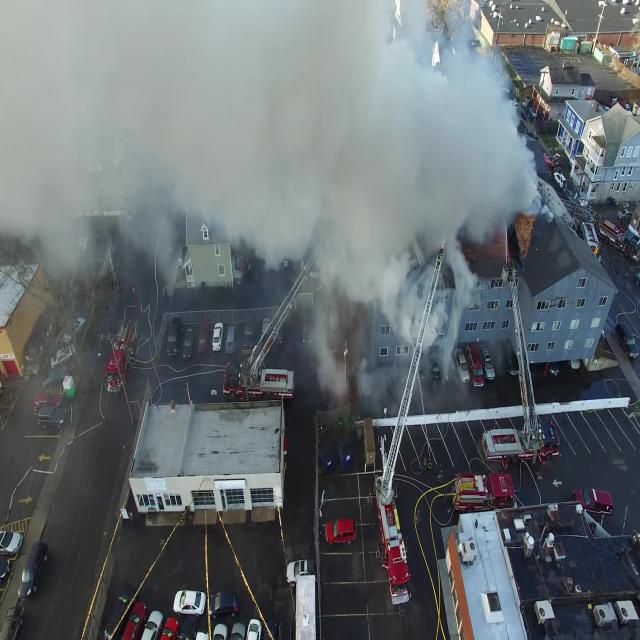Smoke: (0, 0, 542, 411)
